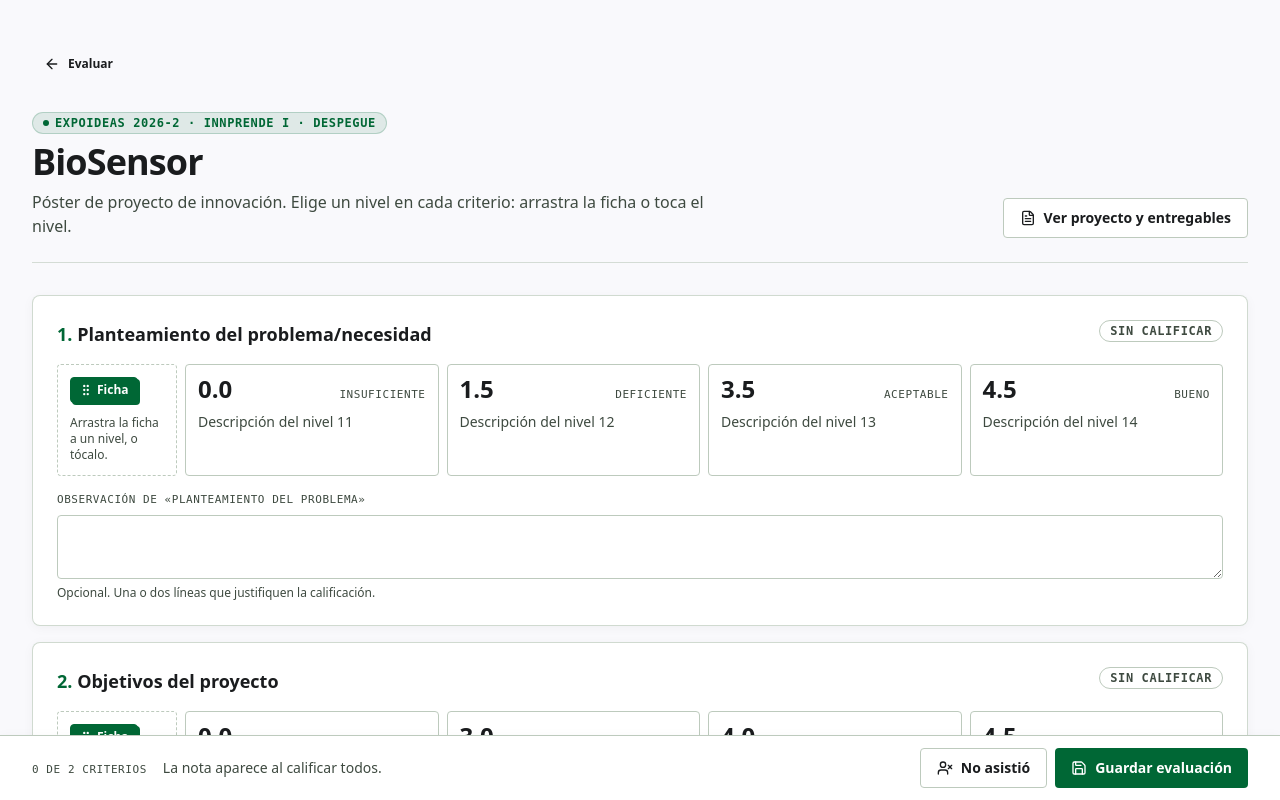
Test: El tablero del jurado › la nota aparece en vivo cuando todos los criterios tienen nivel
Check: the text "0 de 2 criterios" is shown, box [32,762,147,778]
Click the radio button with aria-label "Bueno, 4.5". click: (1096, 420)
box: [970,364,1223,476]
(page scrolled)
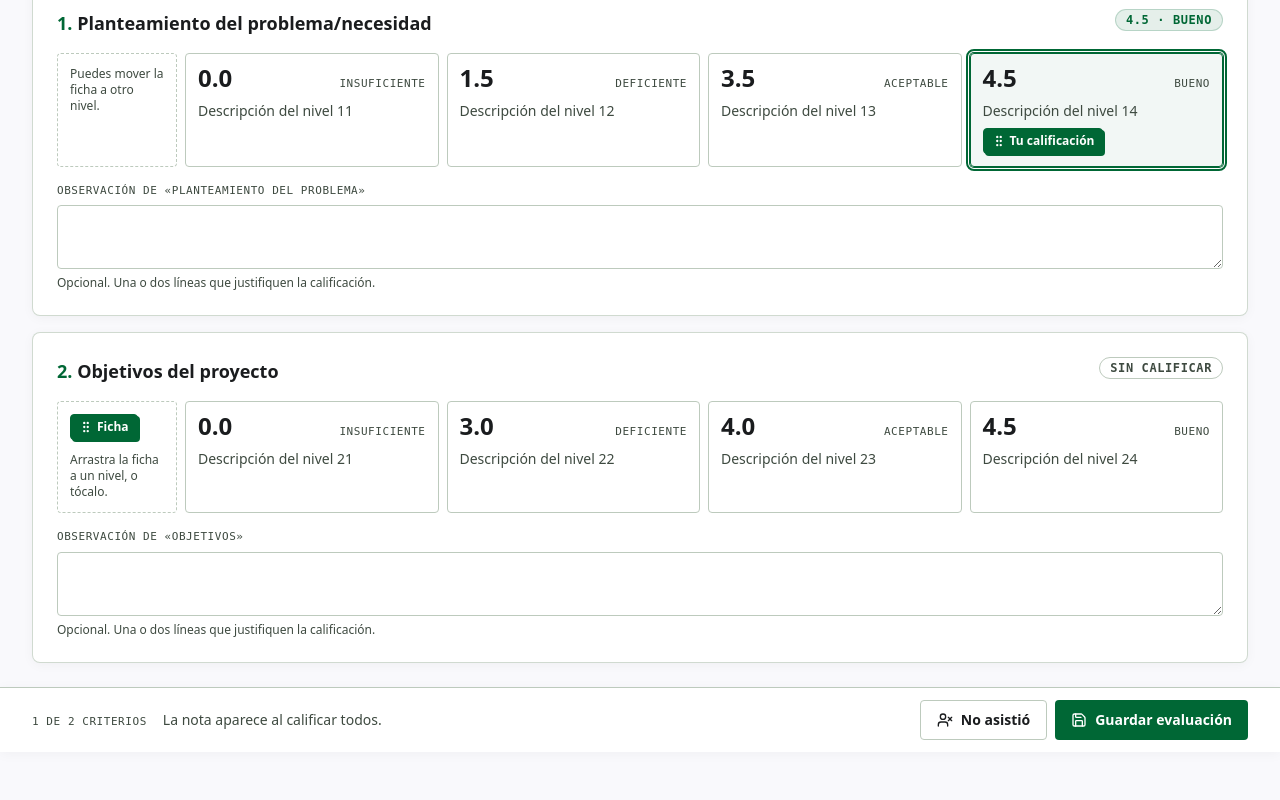
Check: the text "Nota:" is not shown
Check: the text "1 de 2 criterios" is shown, box [32,714,147,730]
Click the radio button with aria-label "Aceptable, 4.0". click: (835, 457)
box: [708,401,962,513]
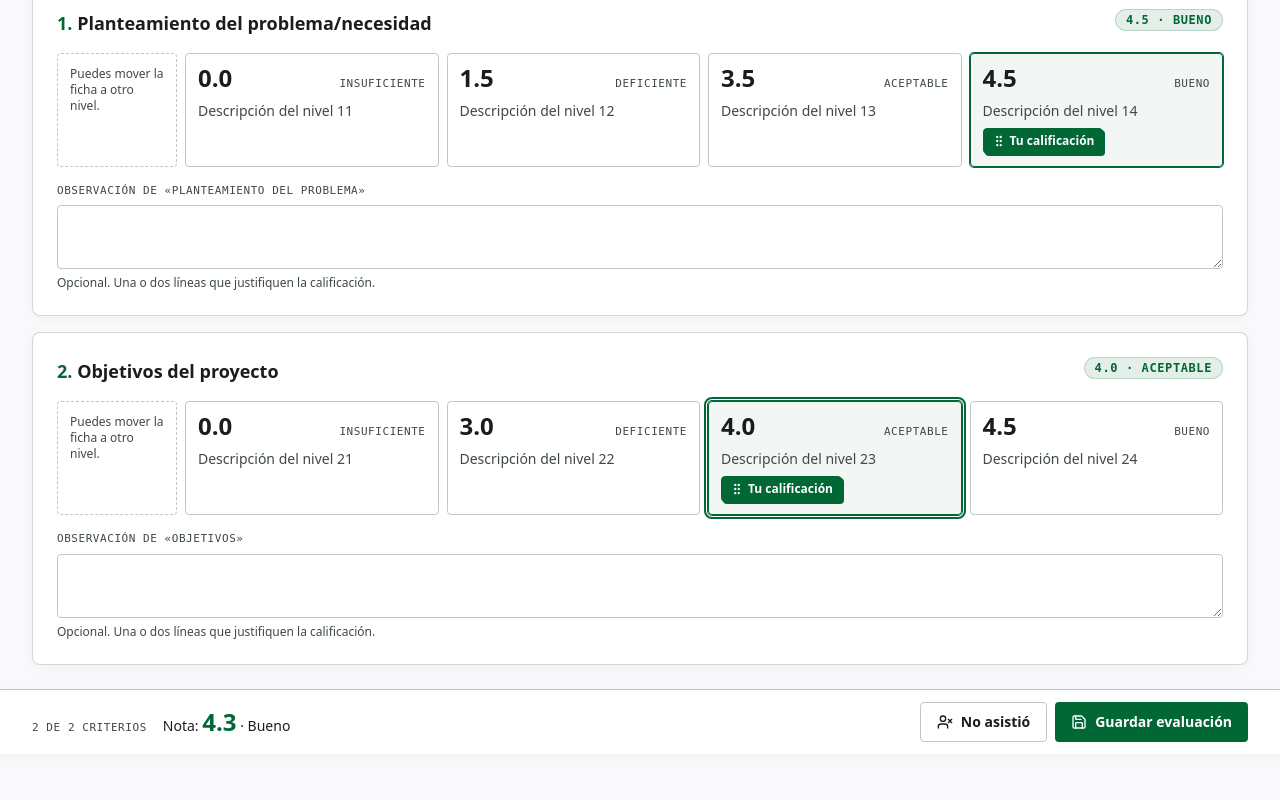
Check: the text "2 de 2 criterios" is shown, box [32,720,147,736]
Check: the text "4.3" is shown, box [202,704,236,738]
Check: the text "Nota: 4.3 · Bueno" is shown, box [163,706,290,738]
